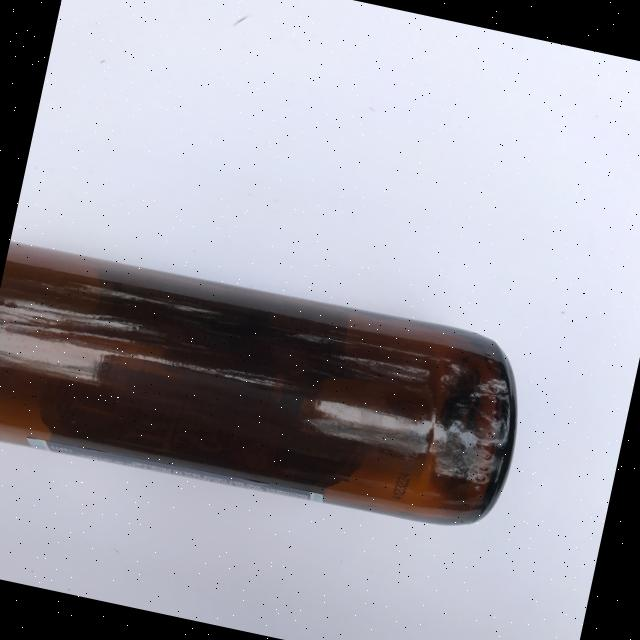glass: (0, 232, 536, 544)
